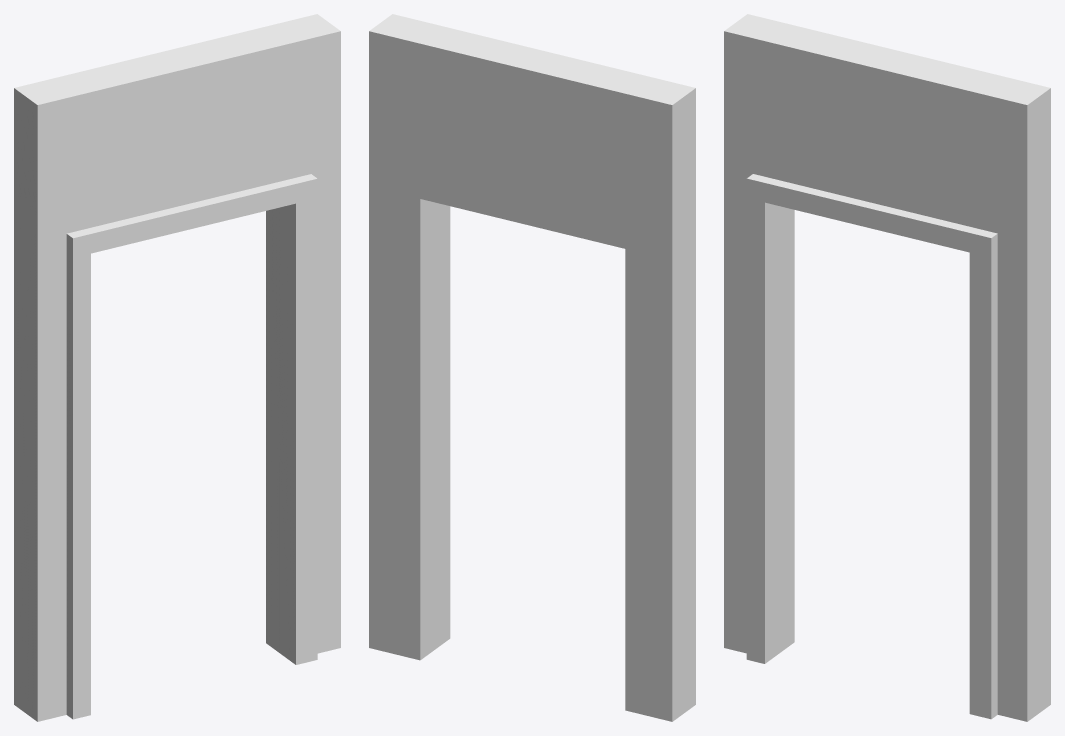
File: option_peacock.fbx
3 renders of one model, left to right at view 1: azimuth 30°, elevation 25°; view 2: azimuth 150°, elevation 25°; view 3: azimuth 330°, elevation 25°, orthographic.
Visible parts, largest first — view 1: door_frame1, vote_colour; view 2: door_frame1, vote_colour; view 3: door_frame1, vote_colour.
Boxes of the visible parts, x1=… form: door_frame1: x1=14, y1=14, x2=340, y2=721; vote_colour: x1=66, y1=174, x2=317, y2=719; door_frame1: x1=369, y1=14, x2=695, y2=721; vote_colour: x1=420, y1=199, x2=450, y2=659; door_frame1: x1=724, y1=14, x2=1050, y2=721; vote_colour: x1=746, y1=174, x2=997, y2=719.
Size of the model in its own units: 295 by 573 by 50.26.
